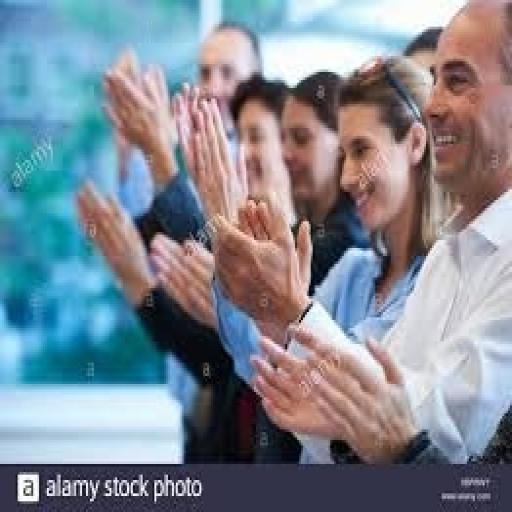clapping: (72, 0, 510, 467)
